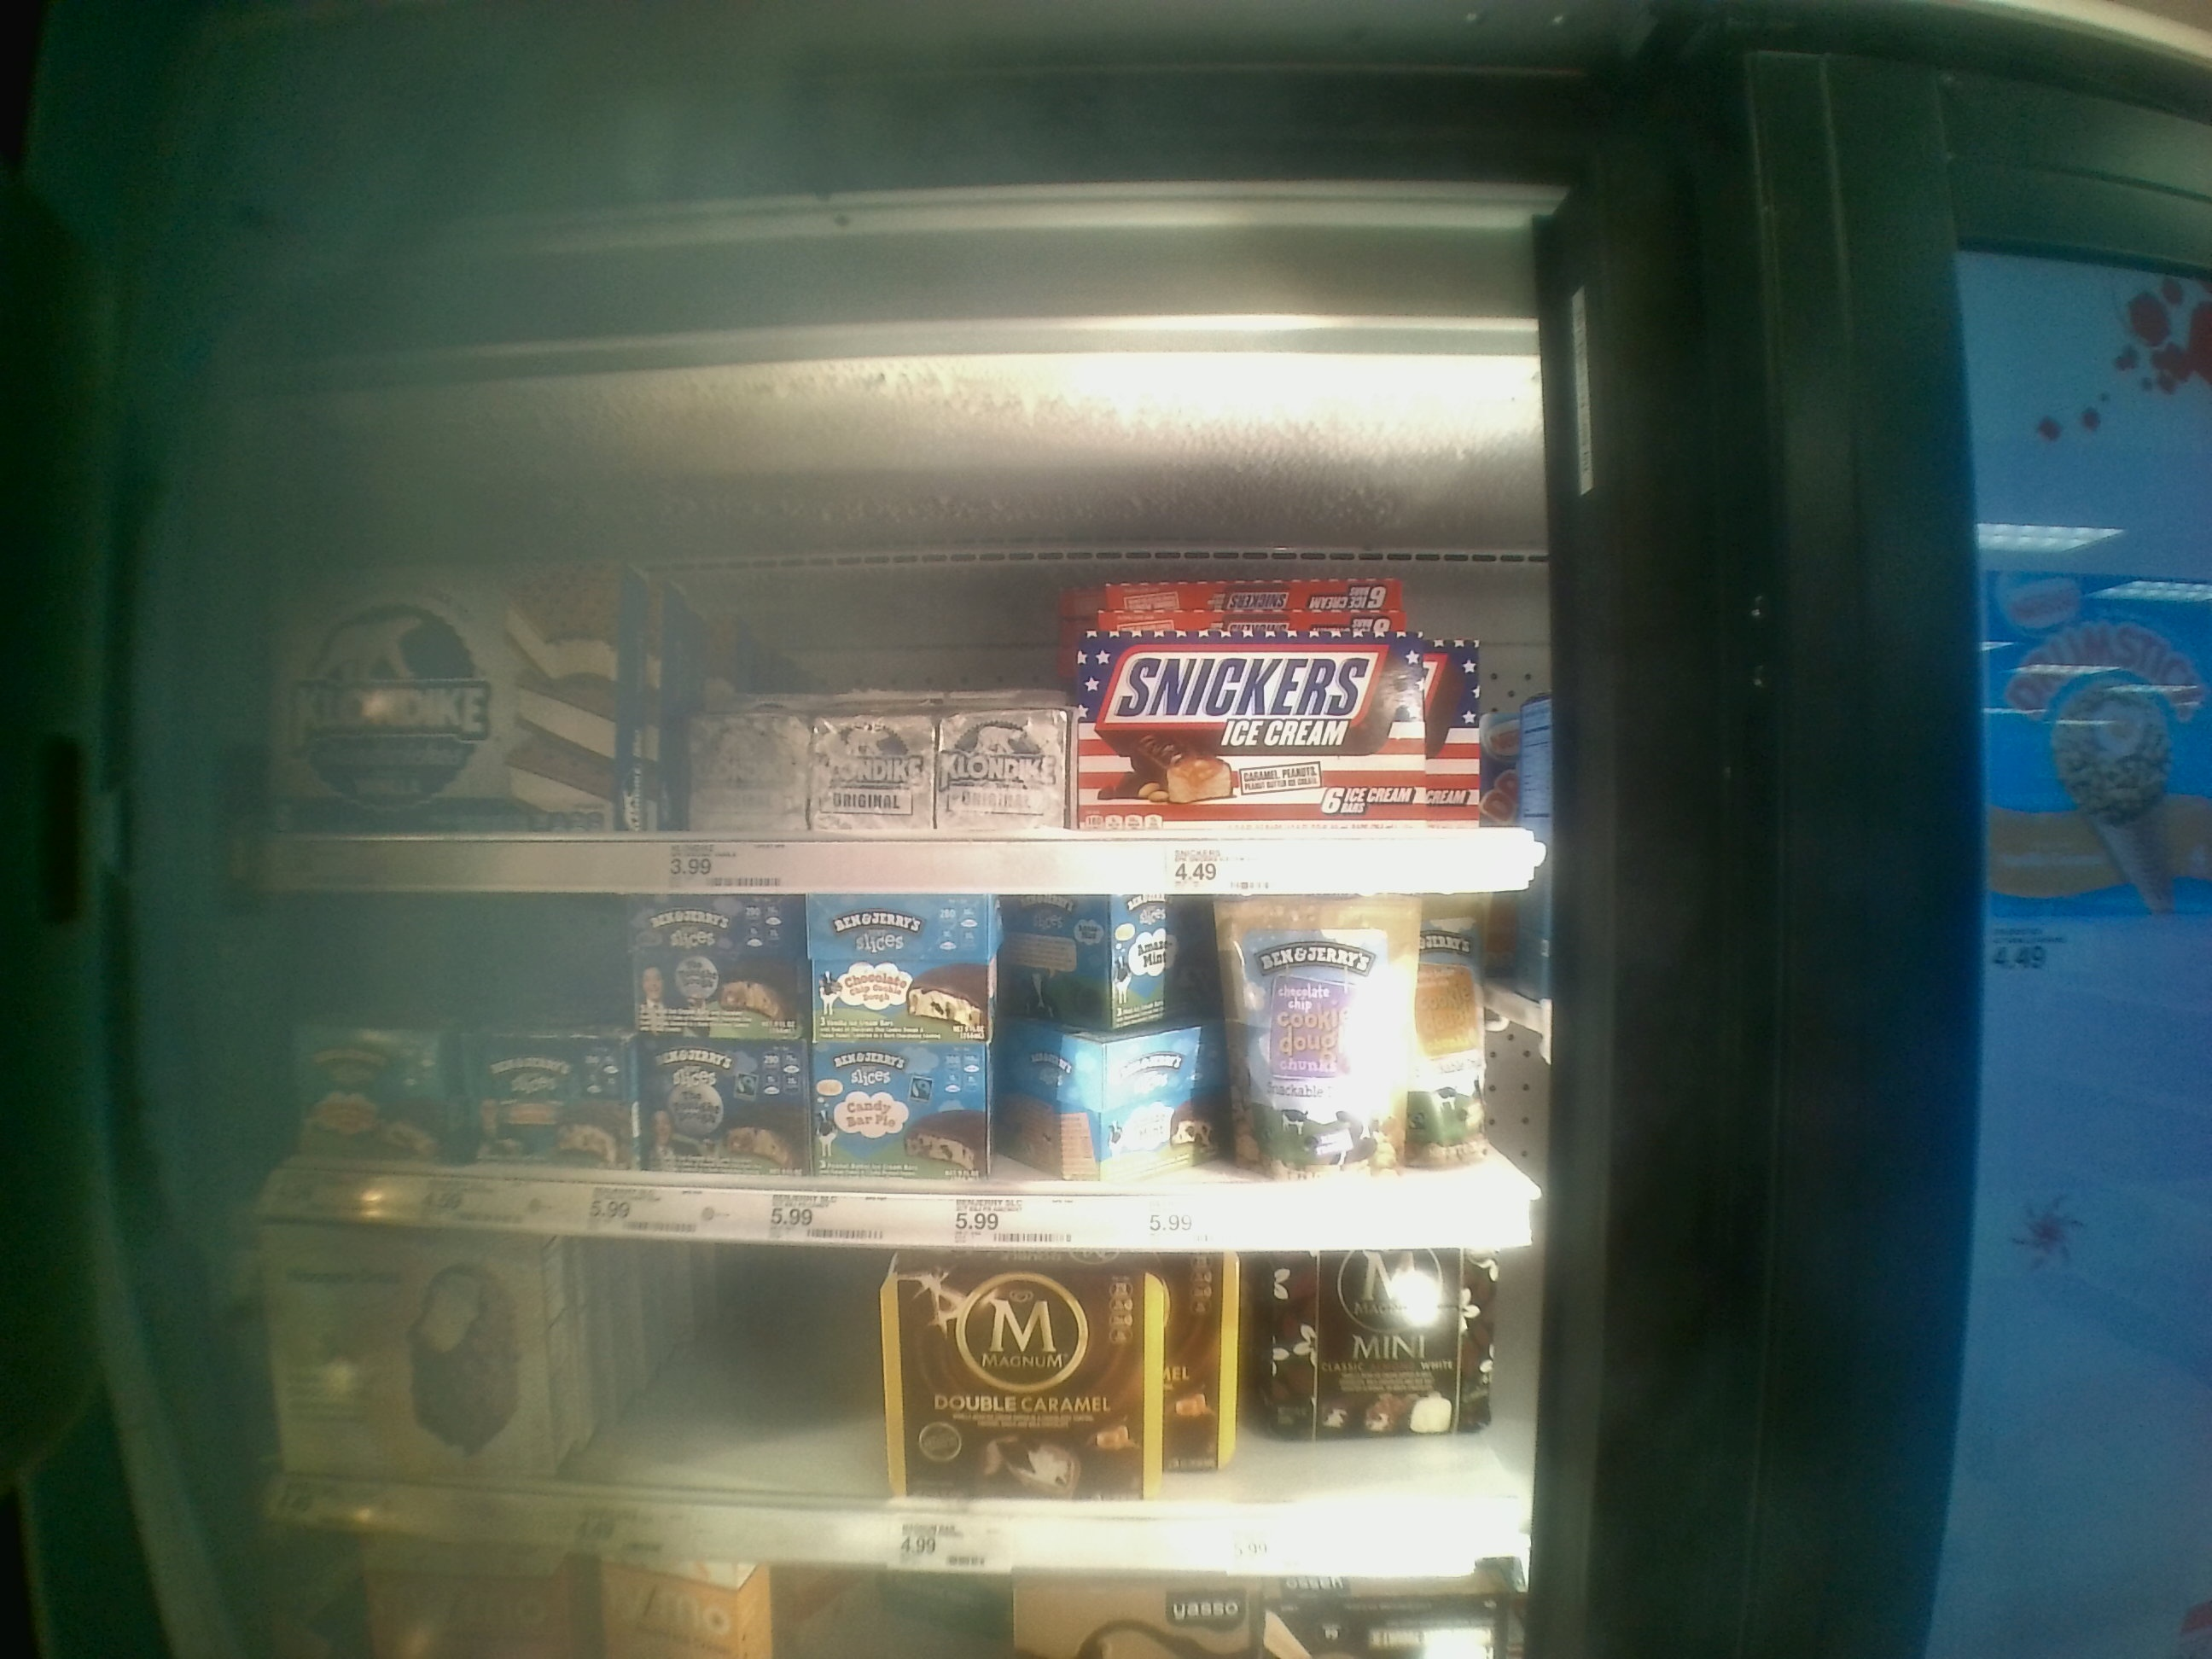ice-cream-shelf: (240, 430, 1538, 889), (235, 889, 1543, 1244), (239, 1234, 1536, 1565)
